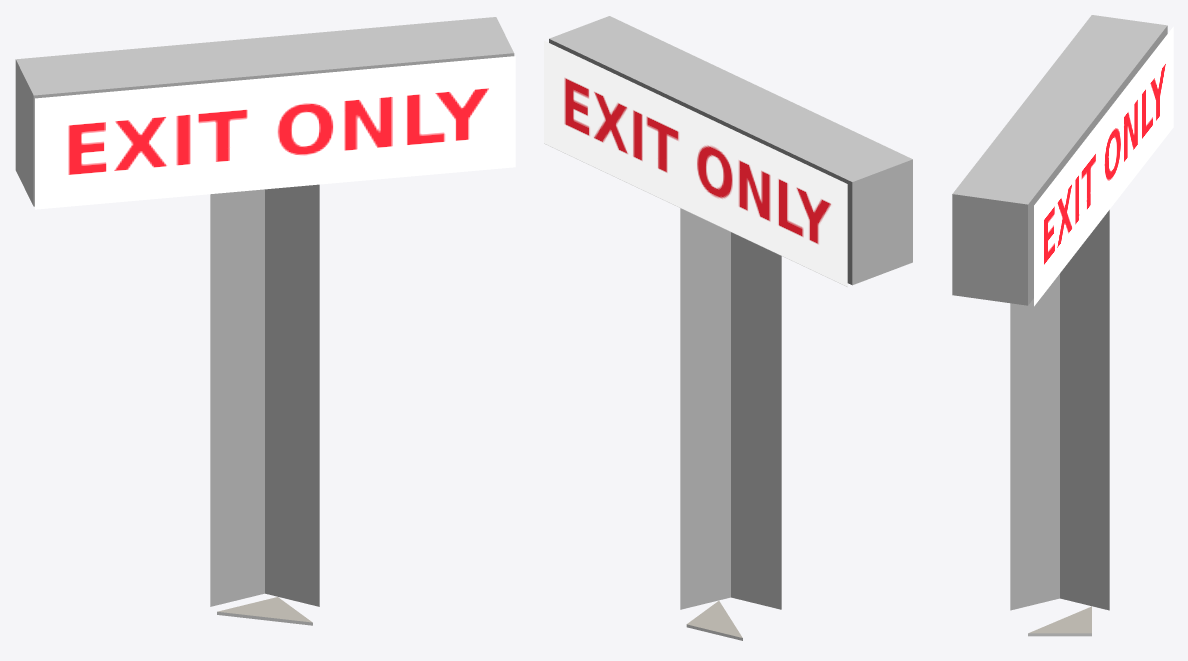
The model's file is r39_exitonly.glb.
3 renders of one model, left to right at view 1: azimuth 30°, elevation 25°; view 2: azimuth 150°, elevation 25°; view 3: azimuth 270°, elevation 25°, orthographic. The views are drawn at different scales.
Parts seen in each view (by area): view 1: r39_exitonly_lod0; view 2: r39_exitonly_lod0; view 3: r39_exitonly_lod0.
Part boxes in pixels (bbox=[...]): r39_exitonly_lod0: bbox=[15, 17, 515, 625]; r39_exitonly_lod0: bbox=[544, 16, 912, 640]; r39_exitonly_lod0: bbox=[952, 15, 1173, 636].
Size of what is drawn, in the model's own units: 1.42 by 1.77 by 0.7129.
Materials: 4 (1 with a texture image).
